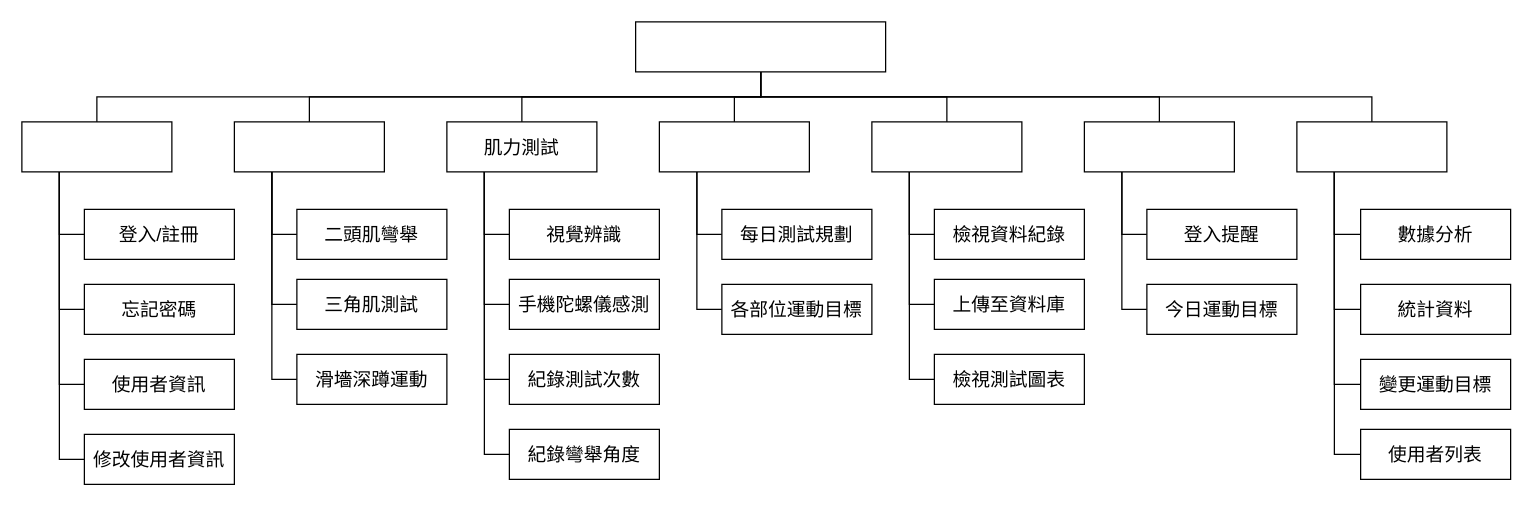
Some shapes in this 1533 by 506 pixel diagram are drawn without their labels. The shapes that lost their labels are listed below. From the top down, each one's centre as x and y in pixels, then its label:
At point 760,46: "肌動Go".
At point 96,146: "用戶相關".
At point 308,146: "測試項目".
At point 733,146: "訓練計畫".
At point 946,146: "資料相關".
At point 1158,146: "通知提醒".
At point 1371,146: "資料管理".
